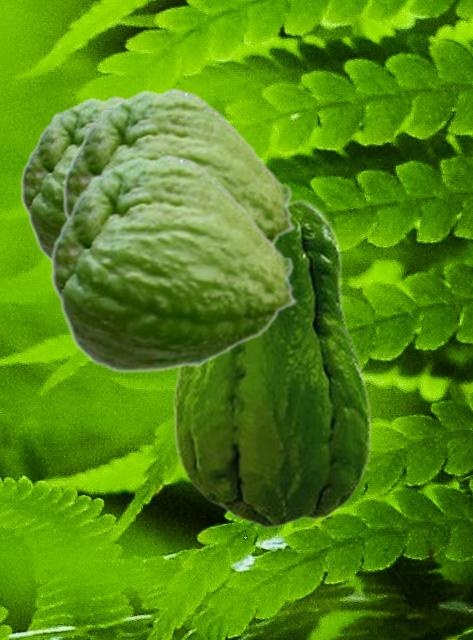sayote: (173, 198, 371, 528), (50, 153, 298, 373), (62, 87, 296, 244), (20, 95, 128, 261)
